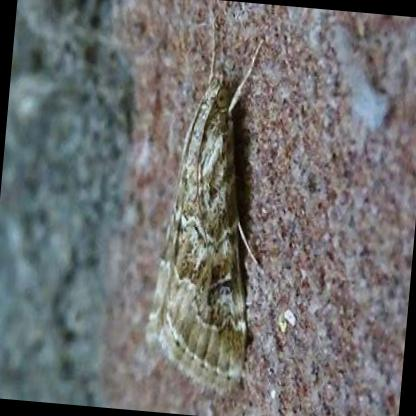Hellula undalis: (137, 7, 268, 395)
